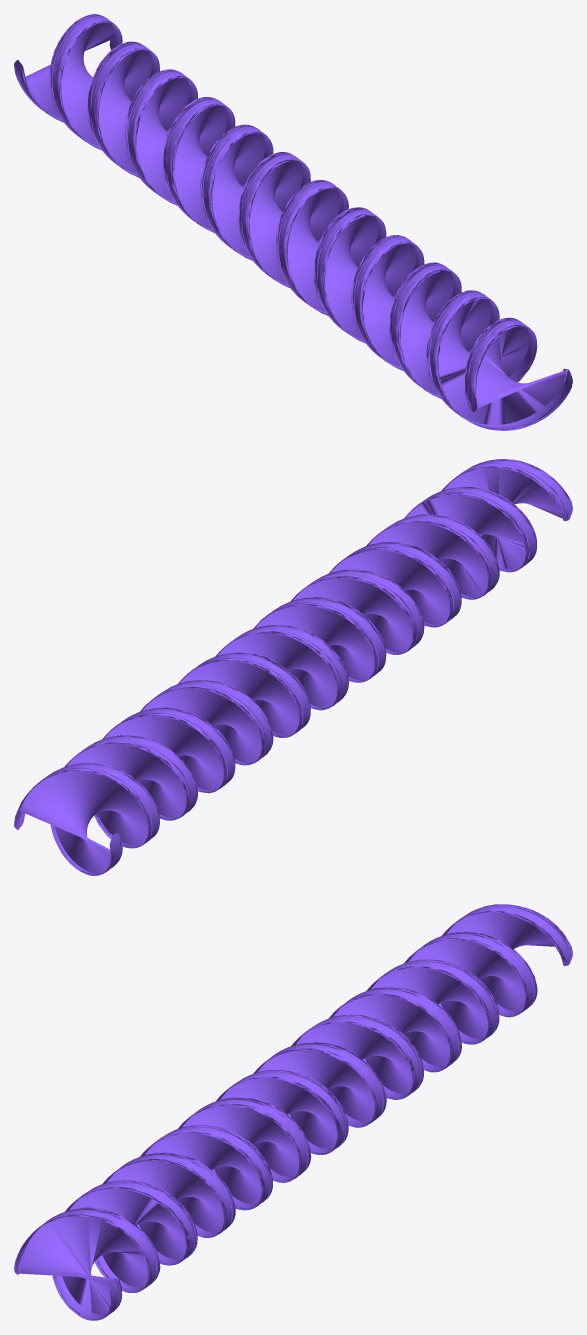
Rendered from dna.glb.
The picture shows the model from 3 angles, top to bottom: view 1: azimuth 30°, elevation 25°; view 2: azimuth 150°, elevation 25°; view 3: azimuth 330°, elevation 25°; orthographic projection.
Visible parts, largest first — view 1: Object_4; view 2: Object_4; view 3: Object_4.
Boxes of the visible parts, x1,y1,x2,y2 form: Object_4: (14, 14, 572, 430); Object_4: (14, 459, 572, 875); Object_4: (14, 904, 572, 1320).
Size of the model in its own units: 1.63 by 1.63 by 13.44.
